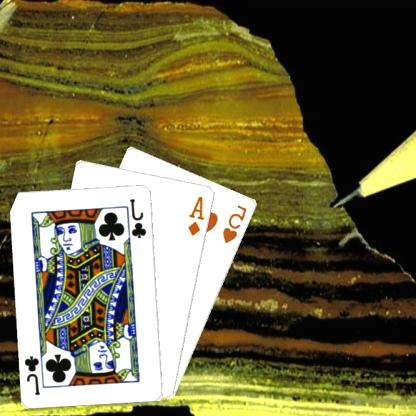5H: (222, 202, 250, 244)
AD: (187, 193, 208, 237)
JC: (129, 196, 150, 239), (24, 353, 44, 396)
